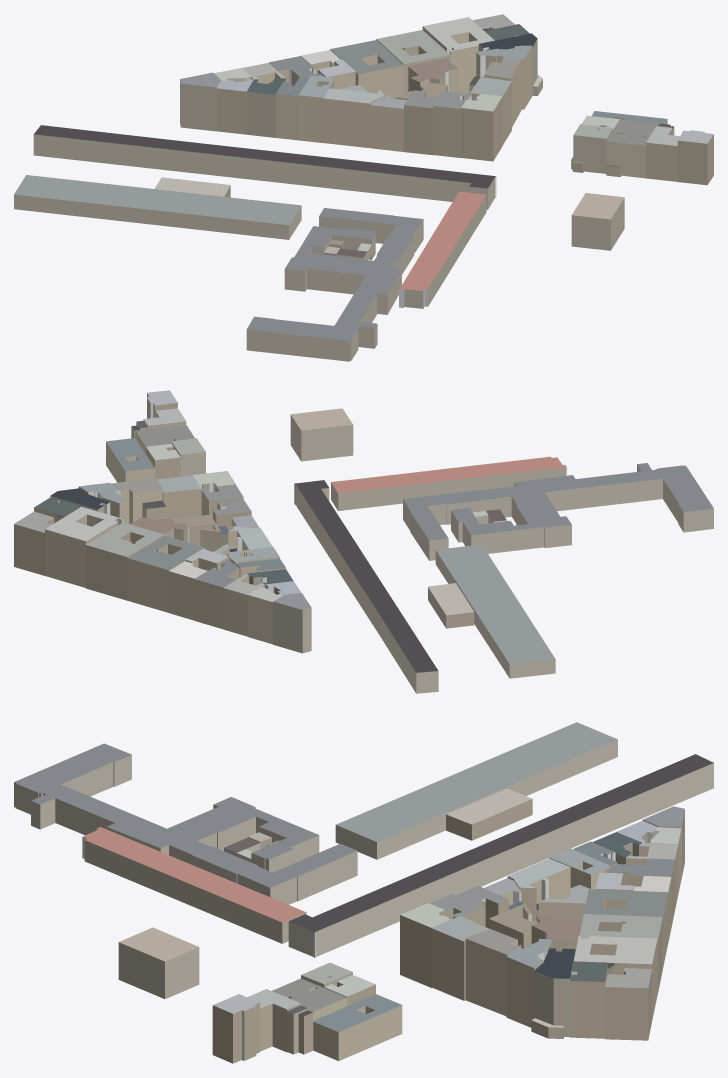
3 views of the same model, one above another, from view 1: azimuth 30°, elevation 25°; view 2: azimuth 150°, elevation 25°; view 3: azimuth 270°, elevation 25° (orthographic). The views are drawn at different scales.
Visible parts, largest first — view 1: tuile; view 2: tuile; view 3: tuile.
Part boxes in pixels (left/top/right/bottom): tuile: left=14, top=14, right=713, bottom=361; tuile: left=14, top=390, right=713, bottom=693; tuile: left=14, top=722, right=713, bottom=1063.
Bounding box in the file's own units: 300 × 31.25 × 272.
